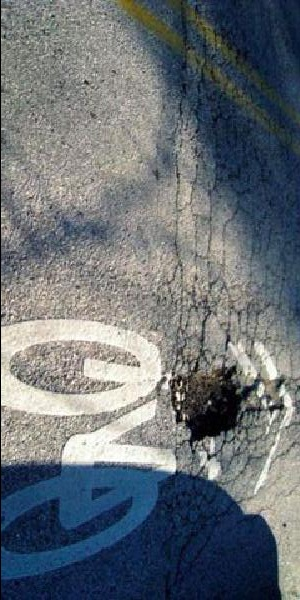pothole: (162, 355, 249, 447)
